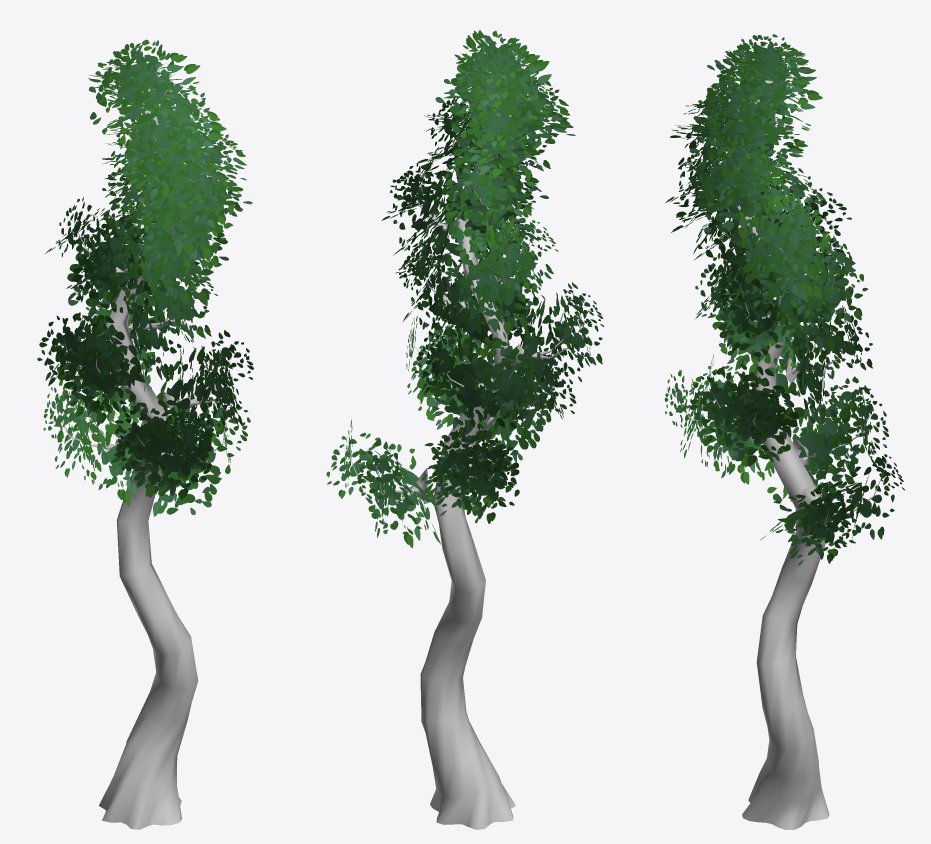
File: SM_tree3.fbx
3 views of the same model, side by side, from view 1: azimuth 30°, elevation 25°; view 2: azimuth 150°, elevation 25°; view 3: azimuth 270°, elevation 25° (orthographic).
Visible parts, largest first — view 1: Tree2_LOD0; view 2: Tree2_LOD0; view 3: Tree2_LOD0.
Part boxes in pixels (left/top/right/bottom): Tree2_LOD0: left=37, top=39, right=253, bottom=829; Tree2_LOD0: left=326, top=30, right=603, bottom=829; Tree2_LOD0: left=664, top=34, right=904, bottom=829.
Size of the model in its own units: 317 by 939 by 296.
